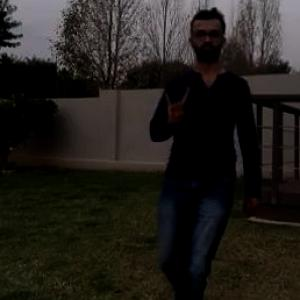takeoff-hand: (159, 81, 192, 127)
